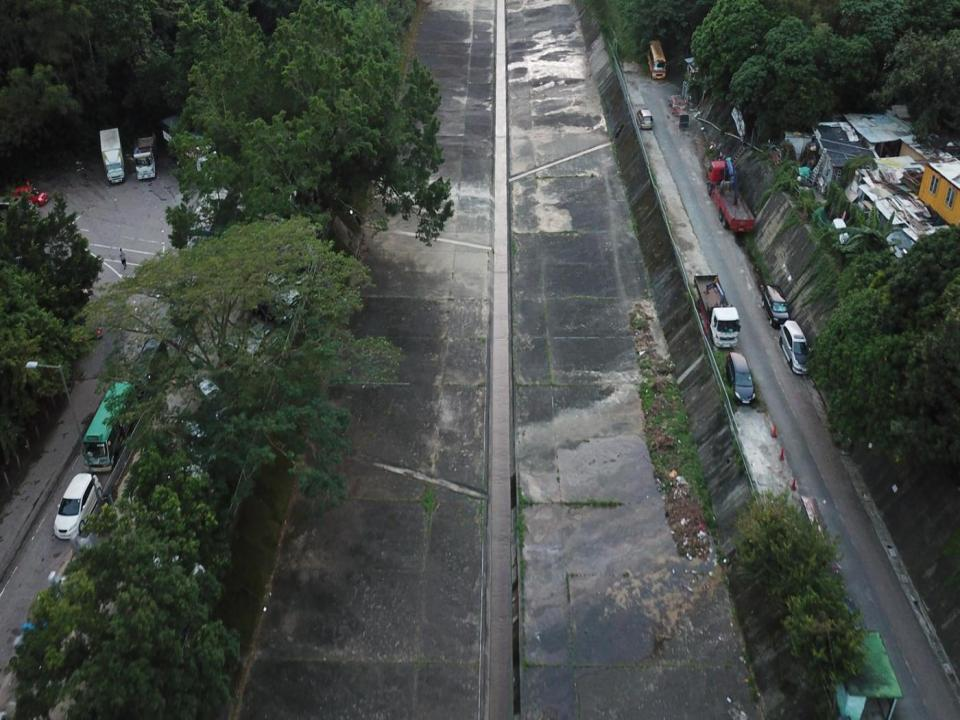bus: (82, 381, 138, 476), (188, 185, 228, 248), (645, 40, 665, 80)
car: (53, 472, 103, 540), (128, 338, 169, 397), (150, 553, 206, 596), (177, 416, 216, 468), (778, 320, 813, 375), (70, 287, 103, 341), (172, 458, 213, 498), (724, 352, 755, 404), (196, 375, 228, 421), (250, 290, 292, 324), (760, 284, 789, 329), (13, 185, 48, 206), (636, 108, 653, 130)
truck: (161, 112, 223, 176), (707, 156, 754, 234), (693, 272, 740, 349), (99, 127, 125, 184), (133, 123, 155, 179)
van: (219, 333, 265, 370), (257, 271, 300, 305), (242, 317, 278, 349), (0, 196, 35, 224), (832, 217, 849, 246)
